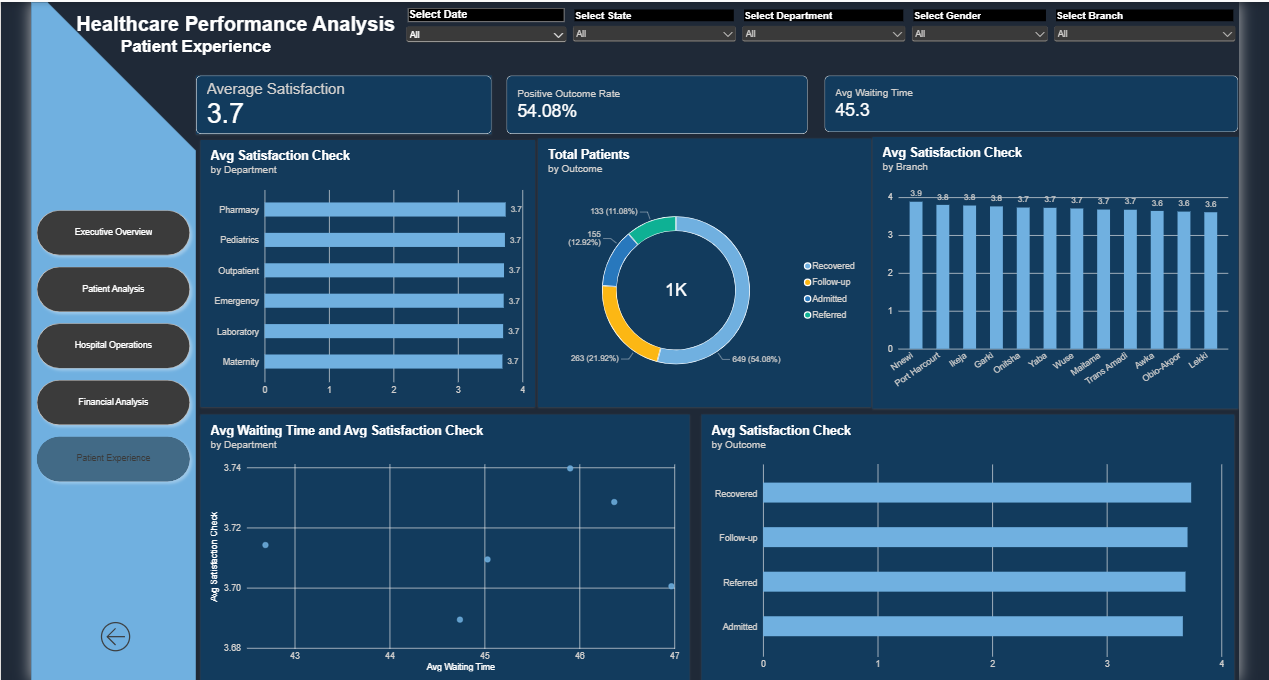

The dashboard page shown, as its layout file describes it:
{"tool":"powerbi","page":{"name":"Patient Experience","canvas":[1920,1080],"ordinal":4},"visuals":[{"type":"textbox","box":[16.7,16.7,618,64.4],"z":0},{"type":"textbox","box":[143.2,54.9,448.6,52.5],"z":1000},{"type":"cardVisual","fields":{"Data":["Date_Table.Avg Satisfaction"]},"box":[262.5,116.9,470,93.1],"z":2000},{"type":"clusteredBarChart","fields":{"Category":["Patient_Visits.Department"],"Y":["Date_Table.Average Satisfaction Check"]},"box":[269.6,219.5,532.1,424.7],"z":3000},{"type":"clusteredColumnChart","fields":{"Category":["Patient_Visits.Branch"],"Y":["Date_Table.Avg Satisfaction Check"]},"box":[1337.8,214.7,582.2,431.9],"z":4000},{"type":"scatterChart","fields":{"Category":["Patient_Visits.Department"],"X":["Date_Table.Average Waiting Time"],"Y":["Date_Table.Avg Satisfaction Check"]},"box":[269.6,656.1,777.8,424.7],"z":5000},{"type":"donutChart","fields":{"Category":["Patient_Visits.Outcome"],"Y":["Date_Table.Total Patients"]},"box":[806.4,217.1,529.7,427.1],"z":6000},{"type":"clusteredBarChart","fields":{"Category":["Patient_Visits.Outcome"],"Y":["Date_Table.Avg Satisfaction Check"]},"box":[1066.5,656.1,847,424.7],"z":7000},{"type":"shape","box":[0,0,262.5,1080.8],"z":8000},{"type":"pageNavigator","box":[0,322.1,262.5,453.3],"z":9000},{"type":"cardVisual","fields":{"Data":["Date_Table.Positive Outcome Rate"]},"box":[756.3,116.9,479.6,93.1],"z":10000},{"type":"cardVisual","fields":{"Data":["Date_Table.Avg Waiting Time"]},"box":[1262.1,116.9,658.5,90.7],"z":11000},{"type":"slicer","fields":{"Values":["Patient_Visits.State"]},"box":[856.5,11.9,269.6,85.9],"z":12000},{"type":"slicer","fields":{"Values":["Patient_Visits.Department"]},"box":[1126.2,11.9,269.6,52.5],"z":13000},{"type":"slicer","fields":{"Values":["Date_Table.Date"]},"box":[591.7,9.5,264.8,76.3],"z":14000},{"type":"slicer","fields":{"Values":["Patient_Visits.Gender"]},"box":[1395.8,11.9,226.7,76.3],"z":15000},{"type":"slicer","fields":{"Values":["Patient_Visits.Branch"]},"box":[1621.8,11.9,298.2,74],"z":16000},{"type":"actionButton","box":[0,937.7,269.6,143.2],"z":17000}]}

Visuals, with their boxes on the page's 1920x1080 design canvas (x1, y1, x2, y2). These are canvas units, not pixel positions in the 1269x680 screenshot, which may show the page scaled, cropped or inside an application window:
textbox: box(17, 17, 635, 81)
textbox: box(143, 55, 592, 107)
cardVisual - Date_Table.Avg Satisfaction: box(262, 117, 732, 210)
clusteredBarChart - Patient_Visits.Department x Date_Table.Average Satisfaction Check: box(270, 220, 802, 644)
clusteredColumnChart - Patient_Visits.Branch x Date_Table.Avg Satisfaction Check: box(1338, 215, 1920, 647)
scatterChart - Patient_Visits.Department x Date_Table.Average Waiting Time: box(270, 656, 1047, 1081)
donutChart - Patient_Visits.Outcome x Date_Table.Total Patients: box(806, 217, 1336, 644)
clusteredBarChart - Patient_Visits.Outcome x Date_Table.Avg Satisfaction Check: box(1066, 656, 1914, 1081)
shape: box(0, 0, 262, 1081)
pageNavigator: box(0, 322, 262, 775)
cardVisual - Date_Table.Positive Outcome Rate: box(756, 117, 1236, 210)
cardVisual - Date_Table.Avg Waiting Time: box(1262, 117, 1921, 208)
slicer - Patient_Visits.State: box(856, 12, 1126, 98)
slicer - Patient_Visits.Department: box(1126, 12, 1396, 64)
slicer - Date_Table.Date: box(592, 10, 856, 86)
slicer - Patient_Visits.Gender: box(1396, 12, 1622, 88)
slicer - Patient_Visits.Branch: box(1622, 12, 1920, 86)
actionButton: box(0, 938, 270, 1081)
